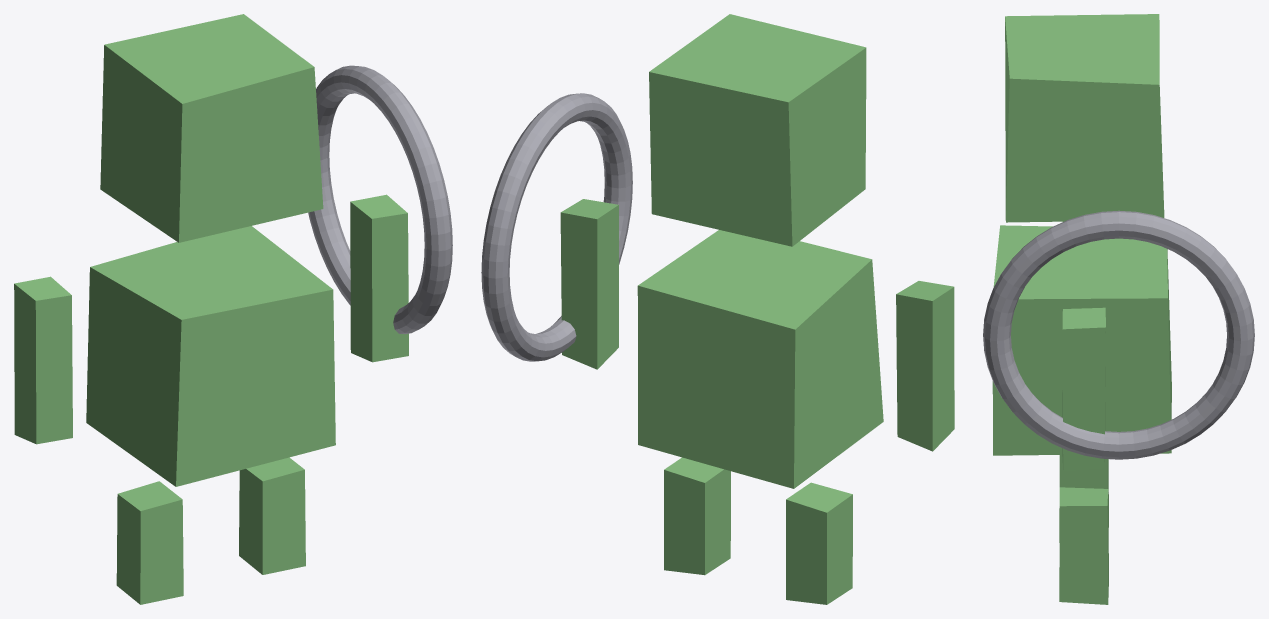
Rendered from clay_blocky_archer.glb.
3 views of the same model, side by side, from view 1: azimuth 30°, elevation 25°; view 2: azimuth 150°, elevation 25°; view 3: azimuth 270°, elevation 25° (orthographic).
Parts seen in each view (by area): view 1: bow; view 2: bow; view 3: bow.
Part boxes in pixels (x1,y1,x2,y2): bow: (14,14,452,604); bow: (481,14,954,604); bow: (983,14,1254,604).
Bounding box in the file's own units: 1.25 × 1.64 × 0.78.
